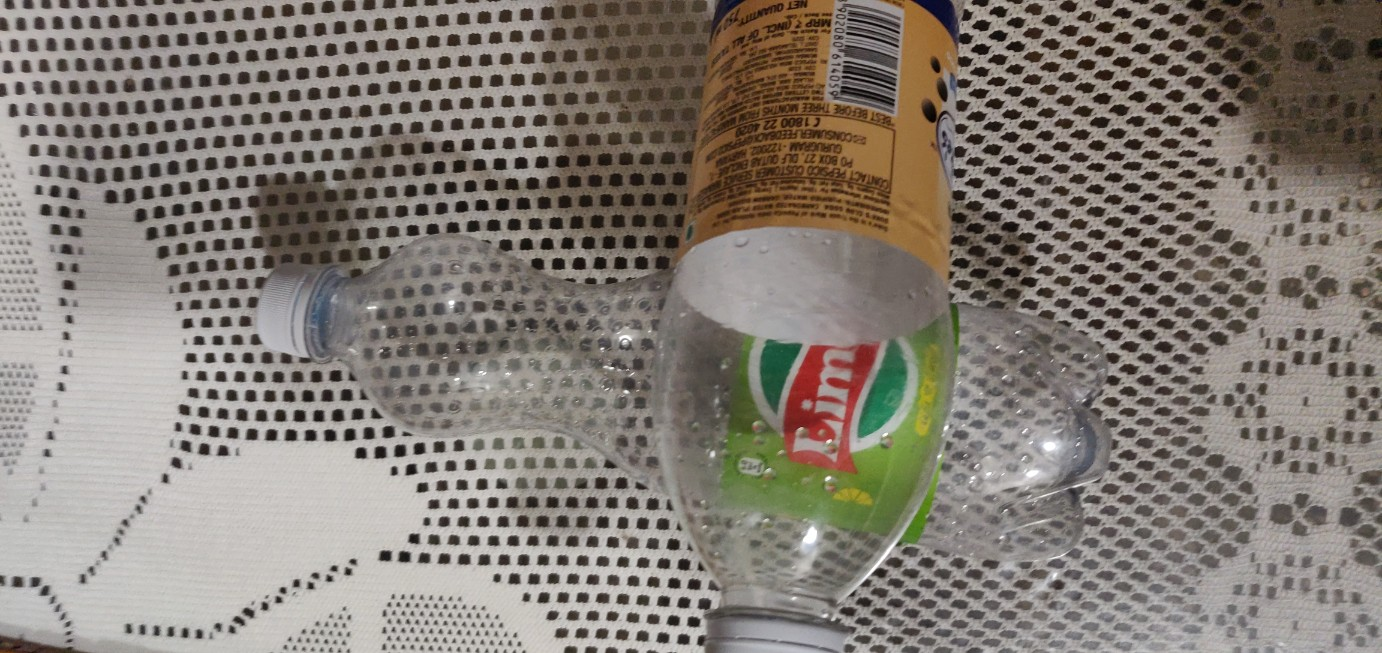Electronics: (230, 219, 1155, 605), (630, 1, 973, 653)
